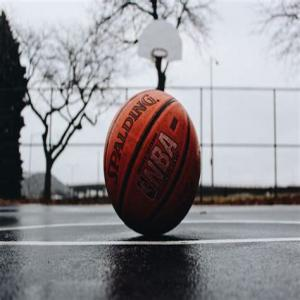Basket: (103, 88, 201, 234)
